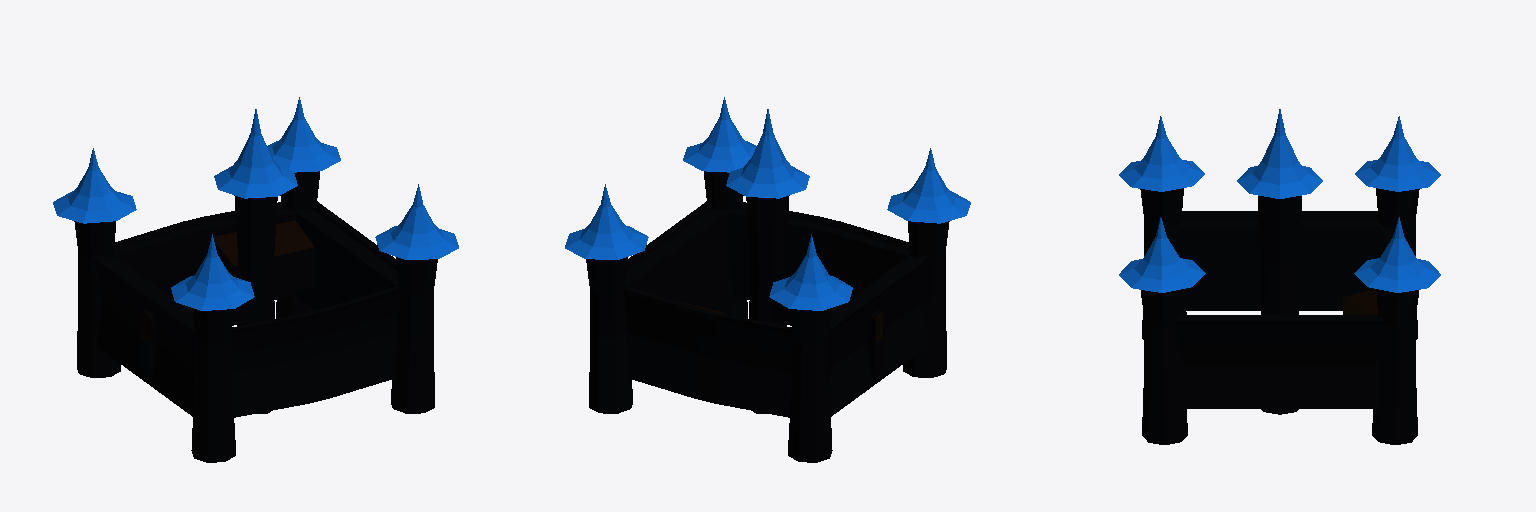
Rendered from Fort_Am.obj.
The picture shows the model from 3 angles: view 1: azimuth 30°, elevation 25°; view 2: azimuth 150°, elevation 25°; view 3: azimuth 270°, elevation 25°; orthographic projection.
Visible parts, largest first — view 1: Cube, Cylinder.001, Cylinder, Cube.001; view 2: Cube, Cylinder.001, Cylinder, Cube.001; view 3: Cube, Cylinder.001, Cylinder.
Boxes of the visible parts, <box> form: Cube: <box>92,201,400,417</box>; Cylinder.001: <box>53,97,458,462</box>; Cylinder: <box>181,109,297,413</box>; Cube.001: <box>139,309,156,377</box>; Cube: <box>623,201,931,417</box>; Cylinder.001: <box>565,97,970,462</box>; Cylinder: <box>726,109,842,413</box>; Cube.001: <box>867,309,884,377</box>; Cube: <box>1163,211,1396,408</box>; Cylinder.001: <box>1119,116,1440,444</box>; Cylinder: <box>1237,109,1322,414</box>.
Size of the model in its own units: 2.78 by 2.83 by 2.78.